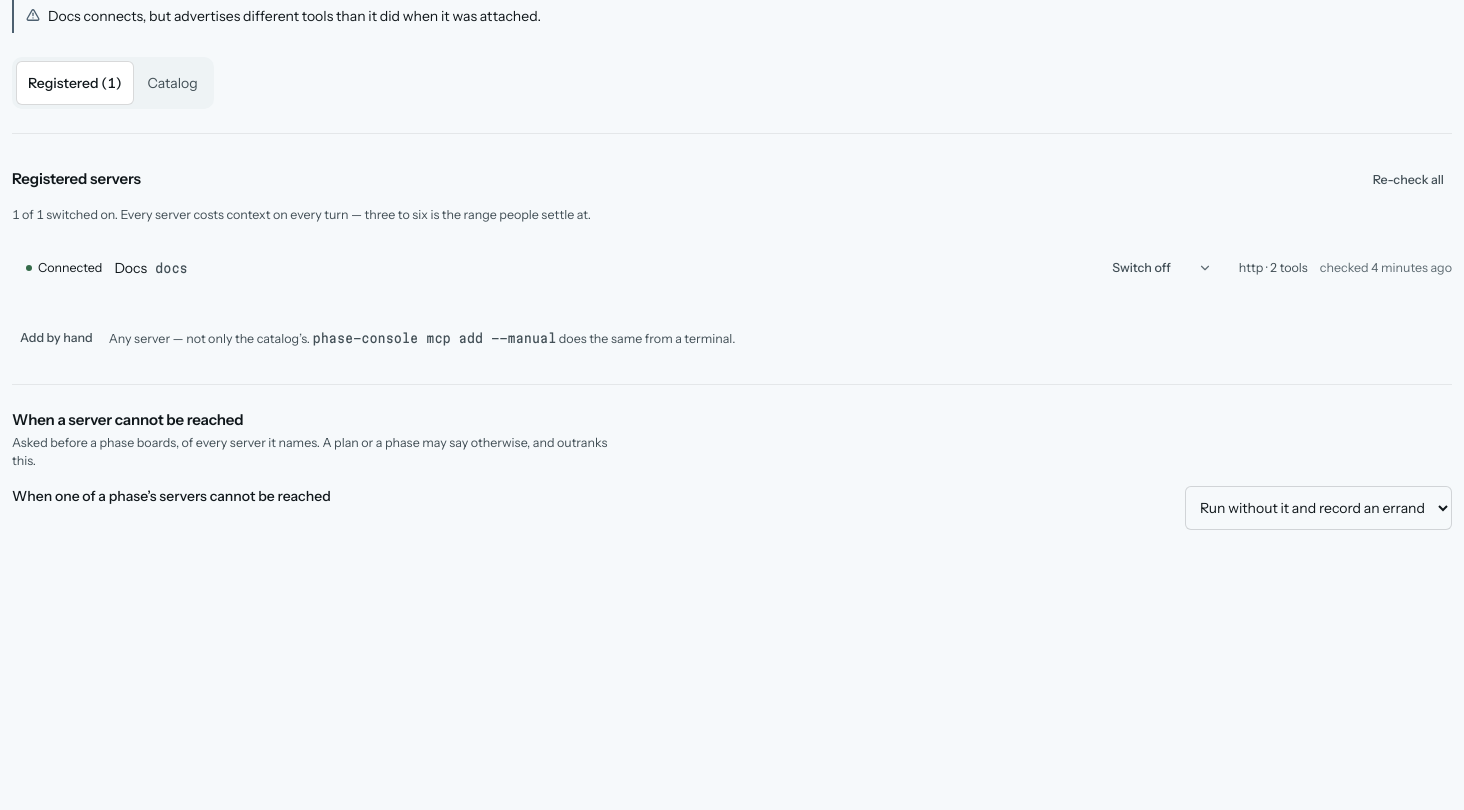
Test: a server, opened in place › surfaces a tool-list change as the supply-chain event it is, and "I have checked it" clears it
Expected: the text "Docs connects, but advertises different tools than it did when it was attached." is shown, [48,7,541,25]
Step 1. Click the button named "Show details of " → click(1205, 268), box [1183,246,1227,290]
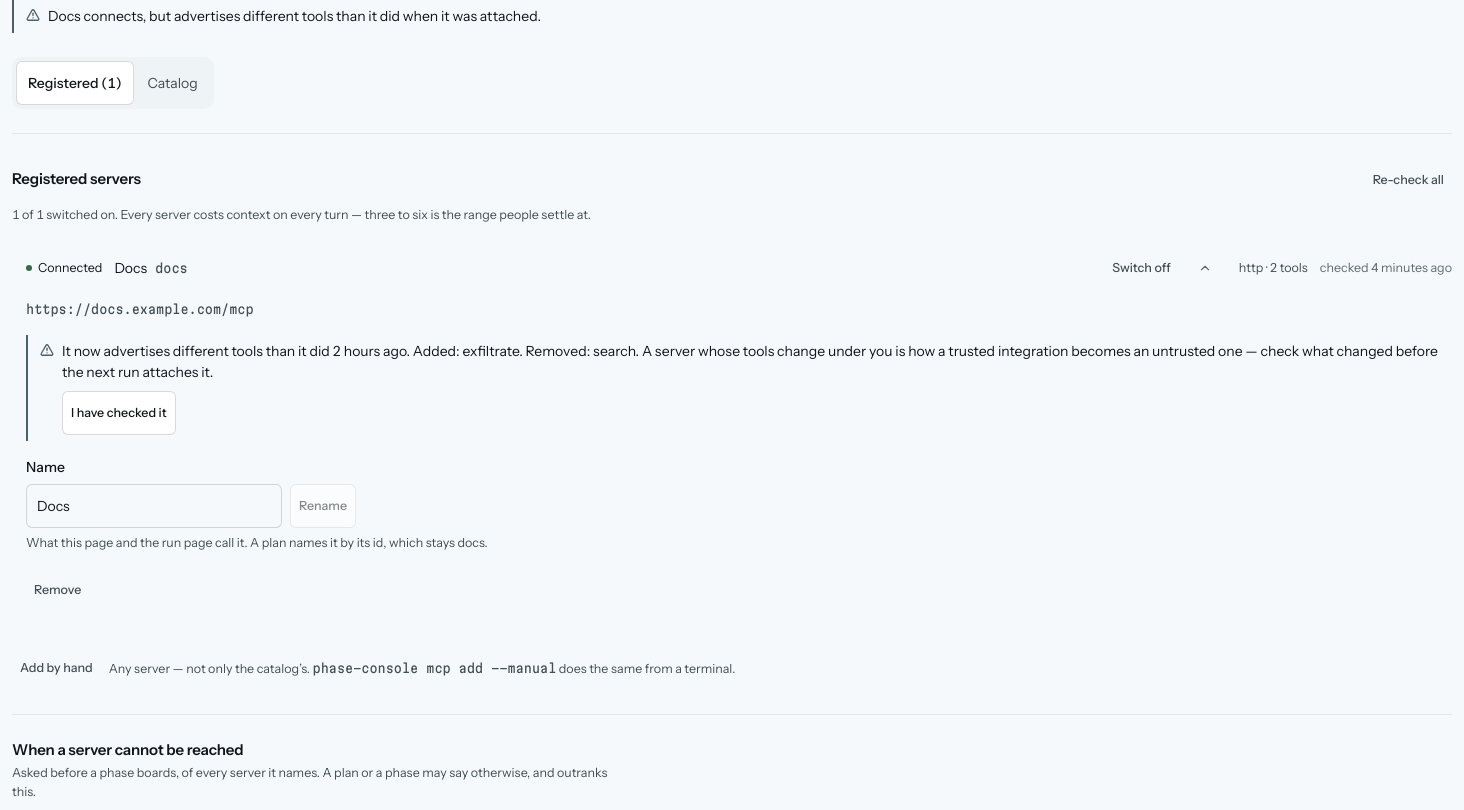
Expected: the button "I have checked it" is enabled
Step 2. Click the button "I have checked it" → click(119, 413), box [62,391,176,435]
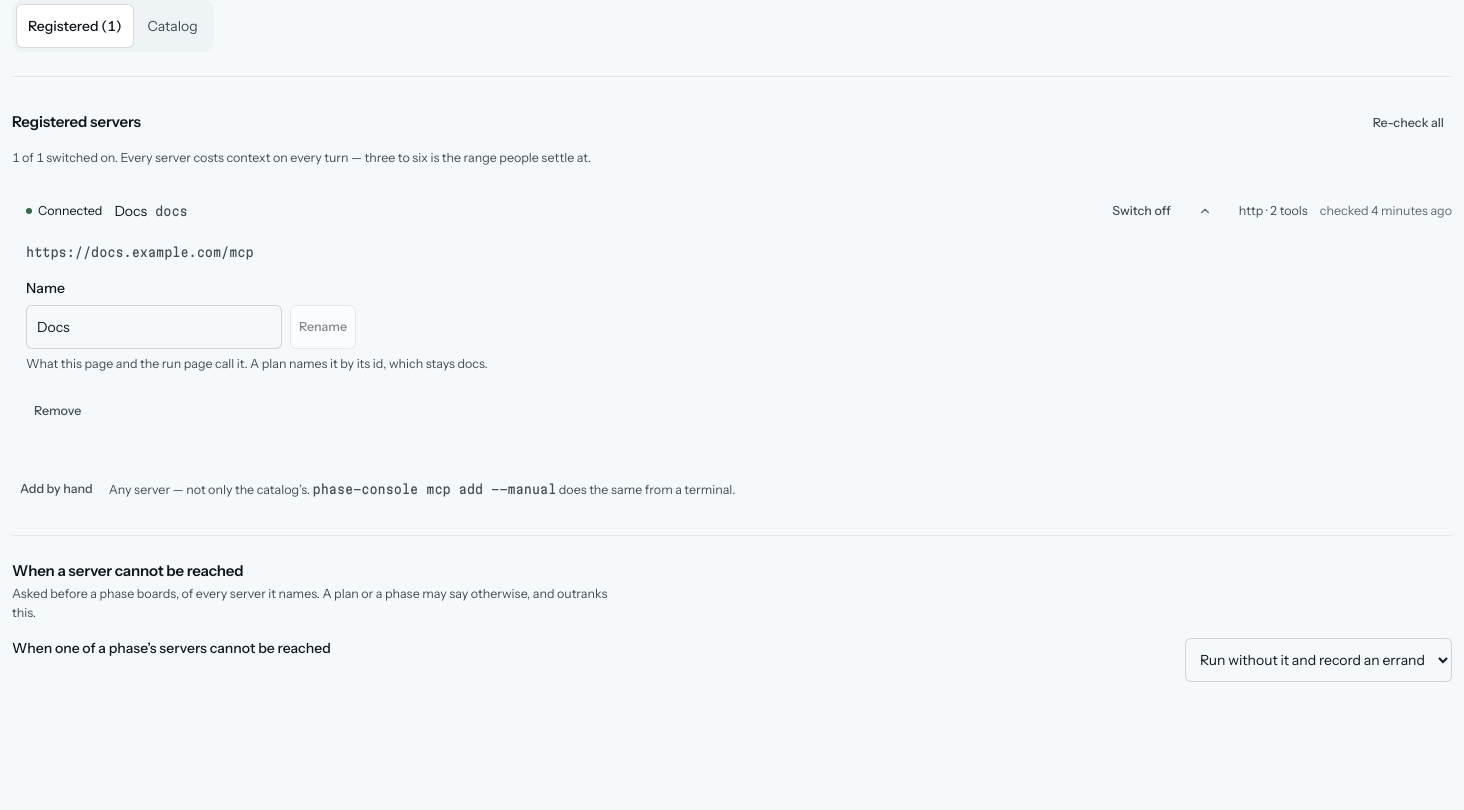
Expected: the text "advertises different tools" is gone
Expected: the button "I have checked it" is gone
